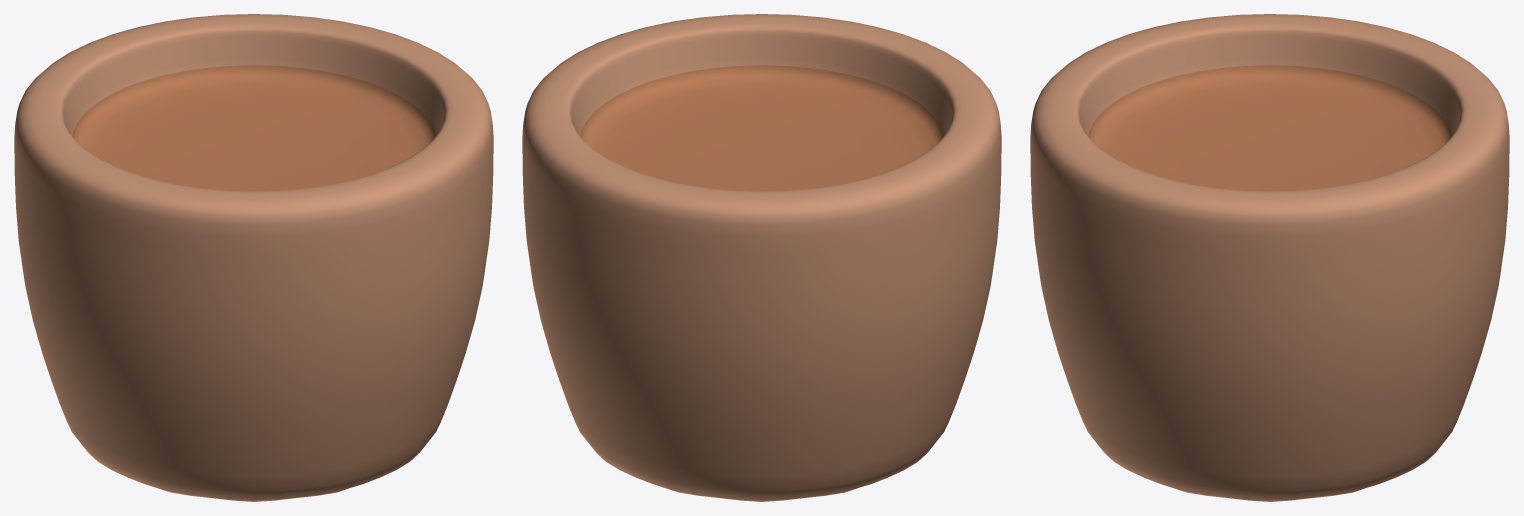
File: flowerpot_3.glb
The picture shows the model from 3 angles, left to right: view 1: azimuth 30°, elevation 25°; view 2: azimuth 150°, elevation 25°; view 3: azimuth 270°, elevation 25°; orthographic projection.
Parts seen in each view (by area): view 1: pot; view 2: pot; view 3: pot.
Boxes of the visible parts, x1,y1,x2,y2 form: pot: (14,14,493,501); pot: (522,14,1001,501); pot: (1030,14,1509,501).
Bounding box in the file's own units: 13.52 × 10.41 × 13.52.
